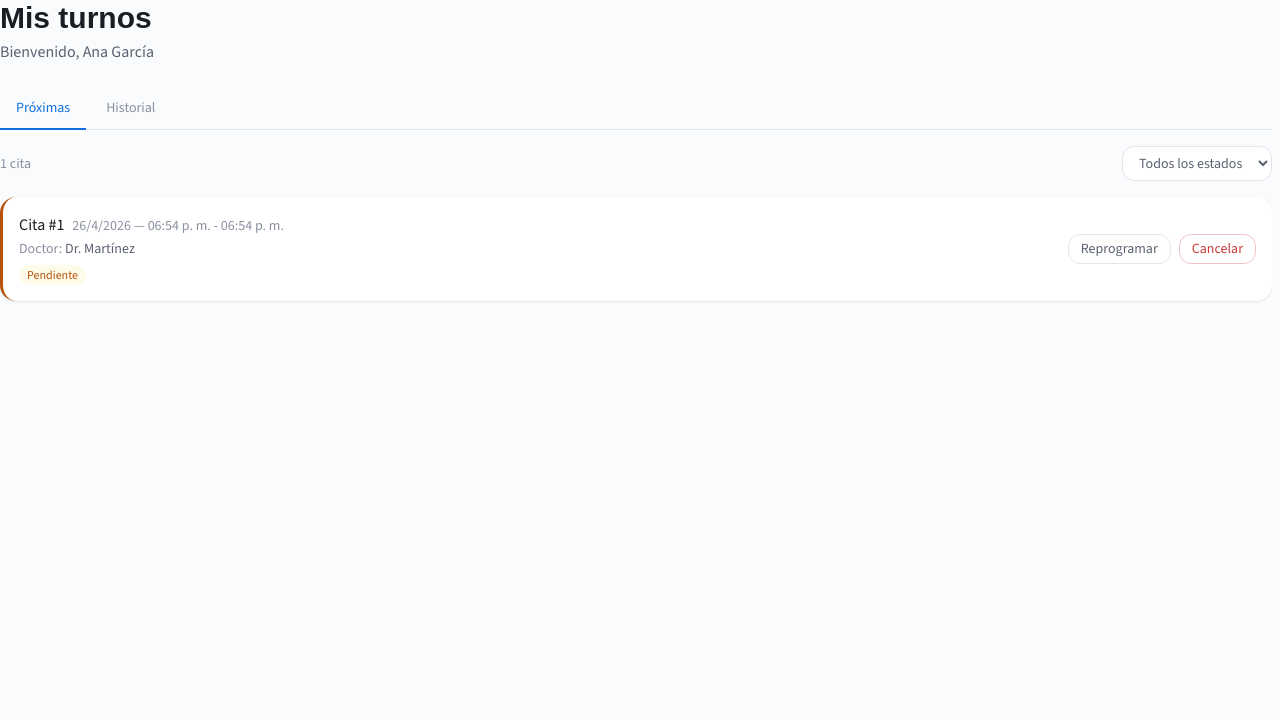
Dashboard — paciente › abre el modal de cancelación al clickar Cancelar
Click the button "Cancelar". click: [1217, 249]
box: left=1179, top=234, right=1256, bottom=264
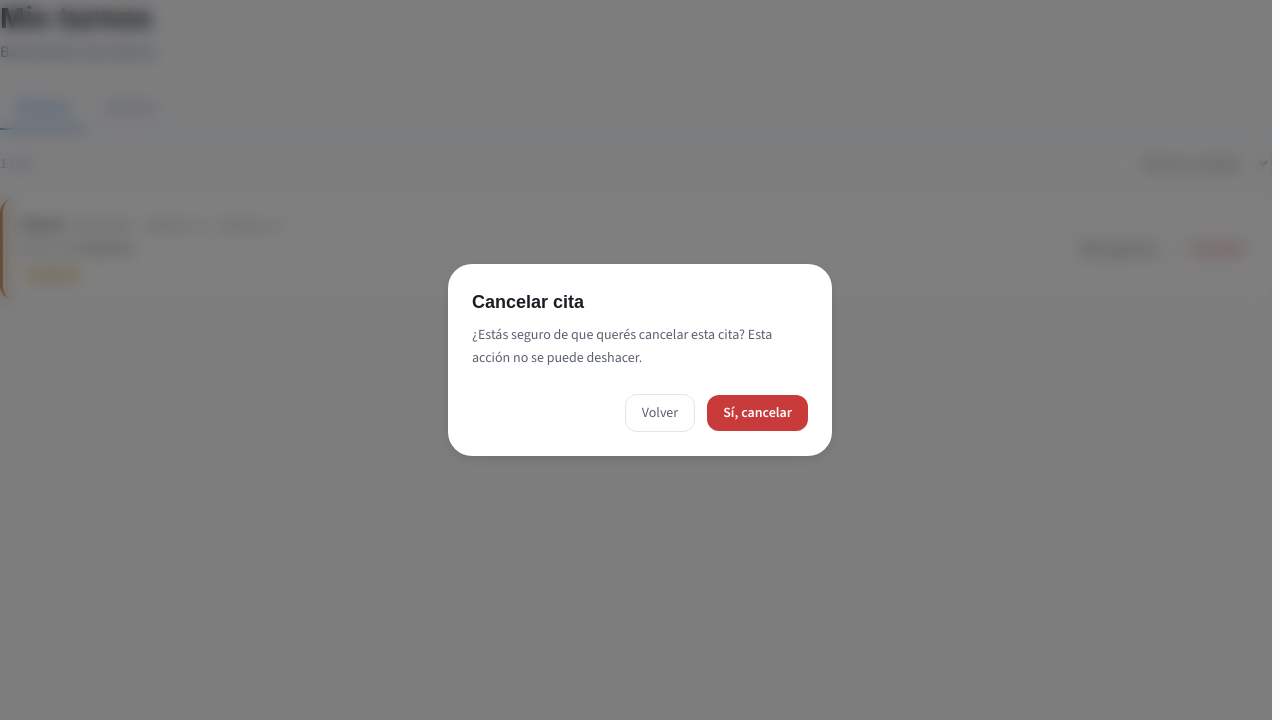
Now the dialog is shown
Now the heading "Cancelar cita" is shown, box left=472, top=292, right=584, bottom=312
